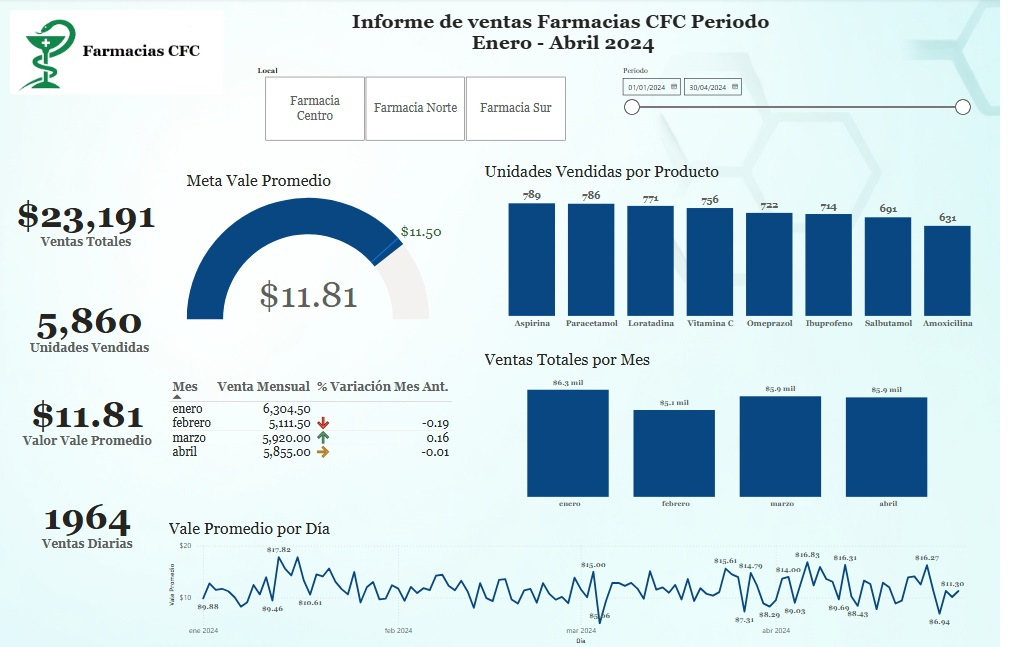

What the dashboard file says about the page in this screenshot:
{"tool":"powerbi","page":{"name":"Página 1","canvas":[1700,1100],"ordinal":0},"visuals":[{"type":"card","fields":{"Values":["ventas.Total_Ventas"]},"box":[0,284.6,324.9,163.4],"z":0},{"type":"card","fields":{"Values":["ventas.Unidades_Totales"]},"box":[18.4,454.1,299.9,177.5],"z":1000},{"type":"clusteredColumnChart","title":"Unidades Vendidas por Producto","fields":{"Category":["ventas.Producto"],"Y":["Sum(ventas.Cantidad)"]},"box":[820.1,273.4,858.9,283.6],"z":2000},{"type":"slicer","fields":{"Values":["ventas.Local"]},"box":[420.3,108.1,548.8,136.7],"z":3000},{"type":"slicer","fields":{"Values":["ventas.Fecha_Venta"]},"box":[1042.5,108.1,599.8,136.7],"z":4000},{"type":"clusteredColumnChart","fields":{"Y":["ventas.Total_Ventas"],"Category":["Calendario.Date.Variación.Jerarquía de fechas.Mes"]},"box":[820.1,585.5,822.2,271.3],"z":5000},{"type":"lineChart","fields":{"Y":["ventas.Vale_Promedio"],"Category":["Calendario.Date"]},"box":[295.8,867.1,1346.5,212.2],"z":6000},{"type":"card","fields":{"Values":["ventas.Vale_Promedio"]},"box":[40.8,618.2,248.9,159.1],"z":7000},{"type":"card","fields":{"Values":["ventas.Ventas_por_dia"]},"box":[40.8,787.5,248.9,161.2],"z":8000},{"type":"tableEx","fields":{"Values":["Calendario.Date.Variación.Jerarquía de fechas.Mes","Sum(ventas.Total_Venta)","ventas.% Variación Ventas Mes Anterior"]},"box":[295.8,630.4,524.3,226.5],"z":9000},{"type":"gauge","title":"Meta Vale Promedio","fields":{"Y":["ventas.Vale_Promedio"],"MinValue":["Calendario.Vale_prom_minimo"],"MaxValue":["Calendario.Vale_prom_max"],"TargetValue":["Calendario.vale_destino_prom"]},"box":[324.4,287.7,440.7,259.1],"z":10000},{"type":"textbox","box":[544.7,14.3,822.2,93.8],"z":11000},{"type":"image","box":[18.4,14.3,391.7,151],"z":12000}]}

Visuals, with their boxes in screenshot pixels (x1, y1, x2, y2), scaled from the page's 1700x1100 canvas onto the 1012x647 screenshot:
card - ventas.Total_Ventas: left=0, top=167, right=193, bottom=264
card - ventas.Unidades_Totales: left=11, top=267, right=189, bottom=371
"Unidades Vendidas por Producto" clusteredColumnChart: left=488, top=161, right=999, bottom=328
slicer - ventas.Local: left=250, top=64, right=577, bottom=144
slicer - ventas.Fecha_Venta: left=621, top=64, right=978, bottom=144
clusteredColumnChart - ventas.Total_Ventas x Calendario.Date.Variación.Jerarquía de fechas.Mes: left=488, top=344, right=978, bottom=504
lineChart - ventas.Vale_Promedio x Calendario.Date: left=176, top=510, right=978, bottom=635
card - ventas.Vale_Promedio: left=24, top=364, right=172, bottom=457
card - ventas.Ventas_por_dia: left=24, top=463, right=172, bottom=558
tableEx - Calendario.Date.Variación.Jerarquía de fechas.Mes x Sum(ventas.Total_Venta): left=176, top=371, right=488, bottom=504
"Meta Vale Promedio" gauge: left=193, top=169, right=455, bottom=322
textbox: left=324, top=8, right=814, bottom=64
image: left=11, top=8, right=244, bottom=97
